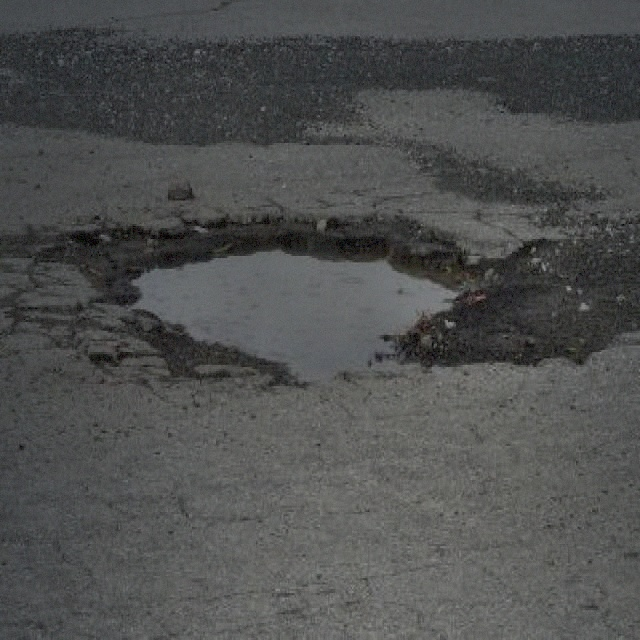pothole: (67, 199, 493, 386)
